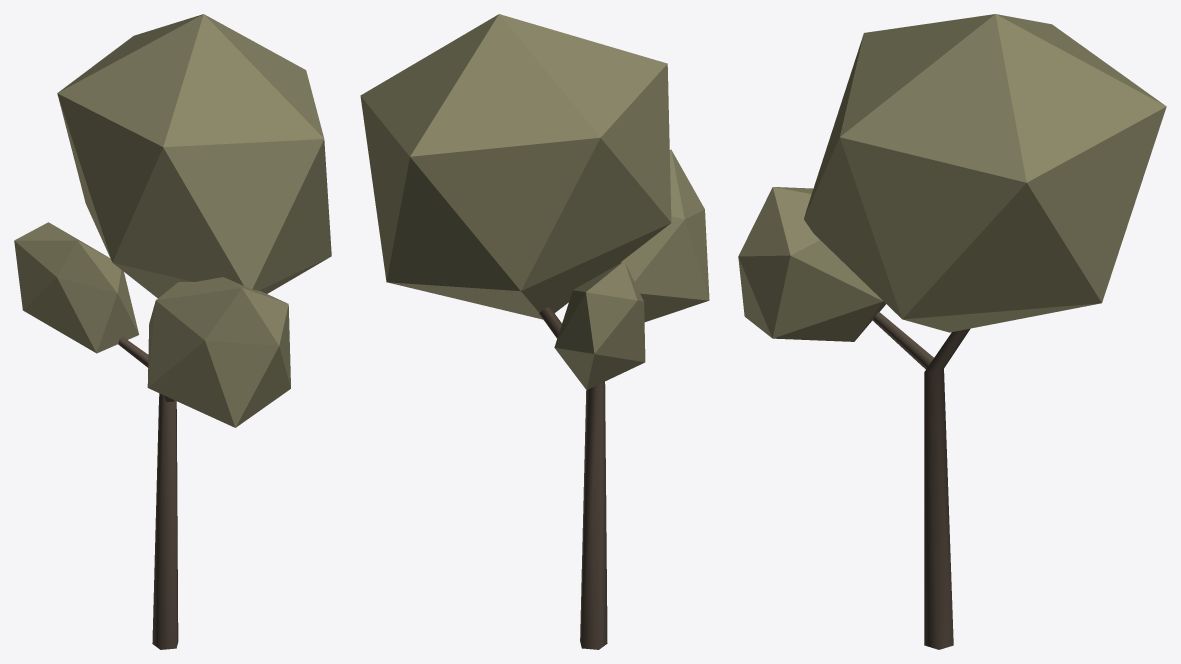
Rendered from tree-ver4.glb.
3 views of the same model, side by side, from view 1: azimuth 30°, elevation 25°; view 2: azimuth 150°, elevation 25°; view 3: azimuth 270°, elevation 25° (orthographic). The views are drawn at different scales.
Visible parts, largest first — view 1: Tree-ver4; view 2: Tree-ver4; view 3: Tree-ver4.
Part boxes in pixels (box(x1,y1,x2,y2)): Tree-ver4: box(14, 14, 331, 649); Tree-ver4: box(360, 14, 709, 649); Tree-ver4: box(738, 14, 1166, 649).
Bounding box in the file's own units: 2.23 × 4.61 × 2.7.
1 material, 1 textured.
